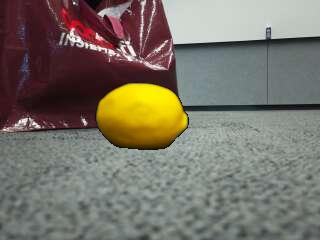lemon: (98, 84, 187, 147)
